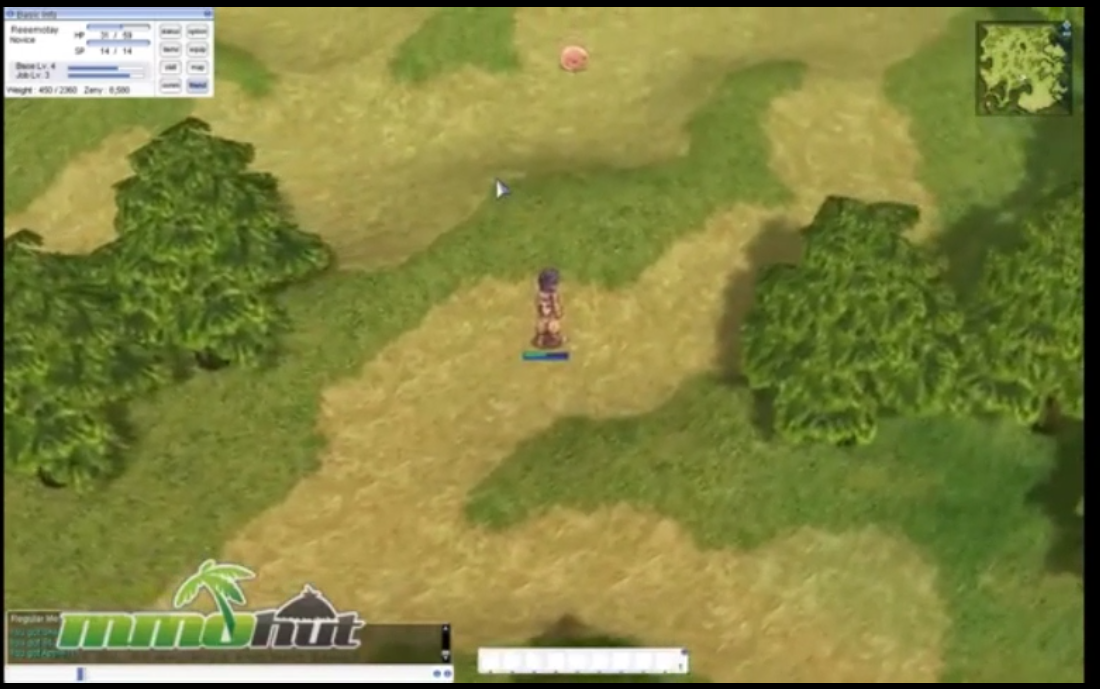porling: (557, 43, 599, 74)
